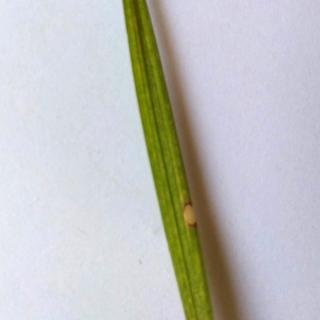Blast: (174, 196, 204, 235)
